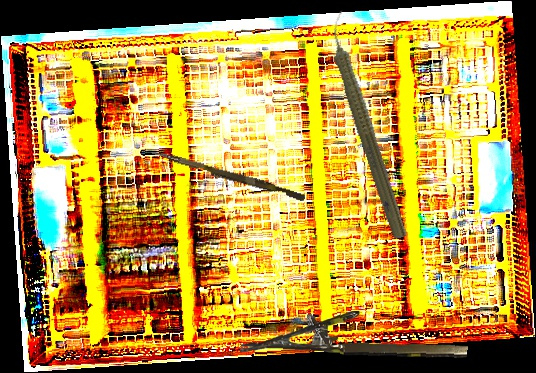Handpiece: (316, 8, 417, 242)
Needle Holder: (240, 307, 469, 360)
Pusher: (149, 149, 307, 202)
